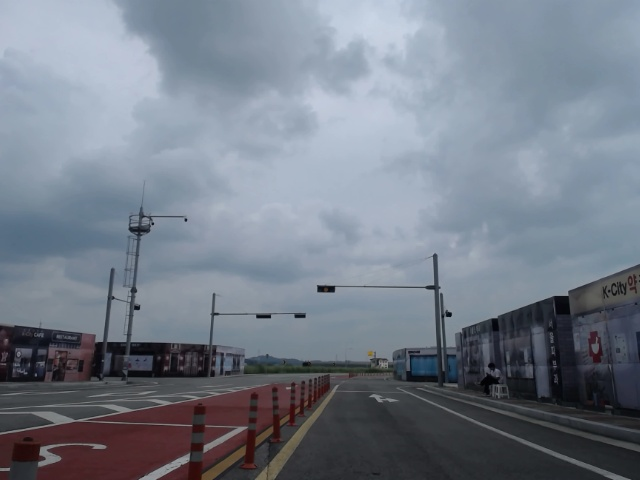orange_3: (317, 285, 335, 293)
